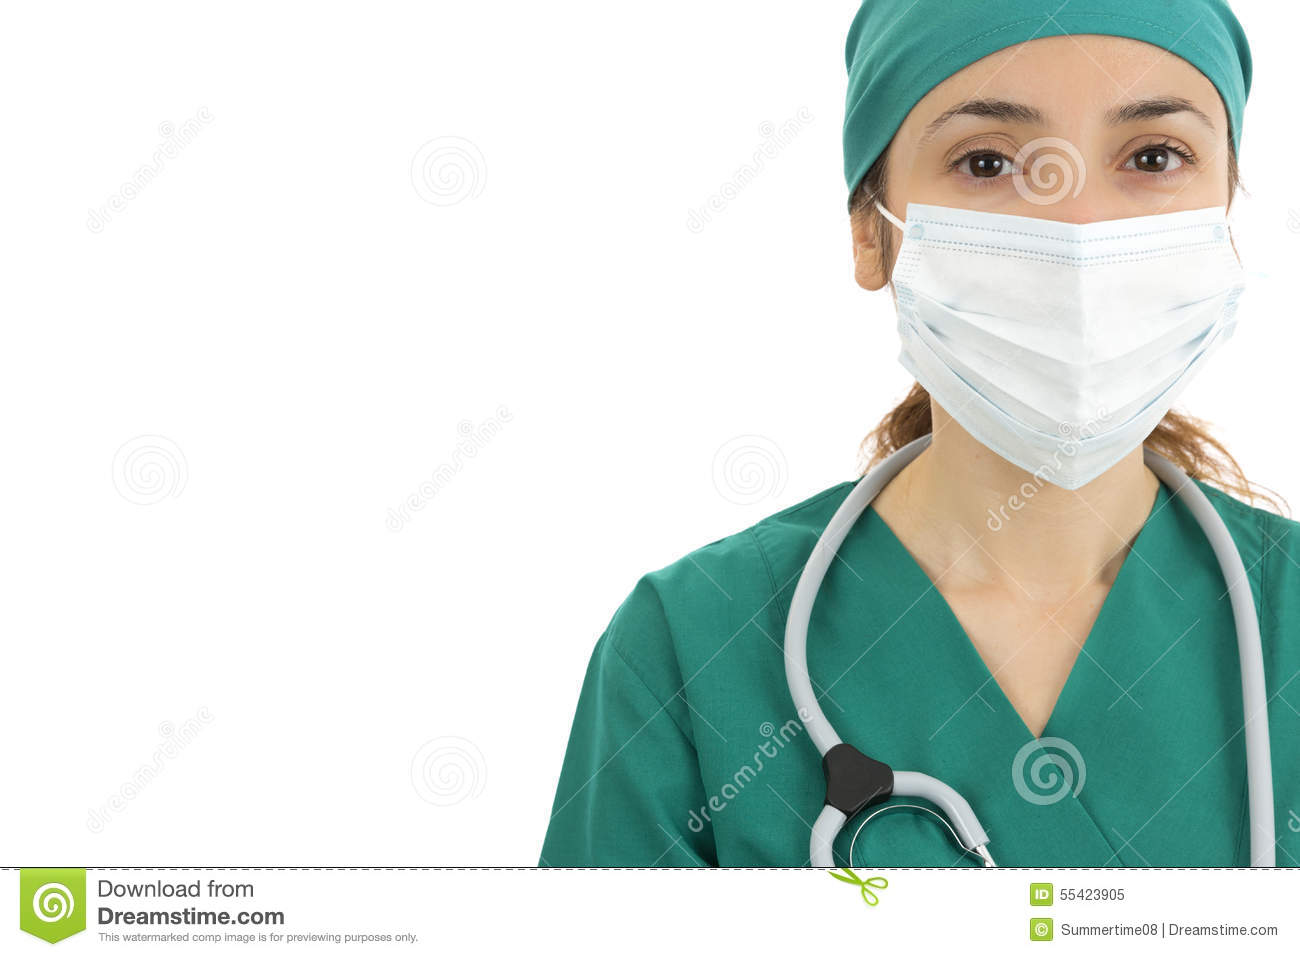mask: (888, 195, 1247, 492)
